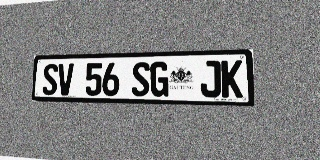5: (85, 63, 102, 96)
6: (102, 62, 120, 96)
G: (150, 61, 169, 97)
J: (200, 60, 221, 97)
K: (221, 60, 243, 98)
S: (132, 62, 150, 96), (42, 64, 58, 95)
V: (57, 63, 74, 95)
